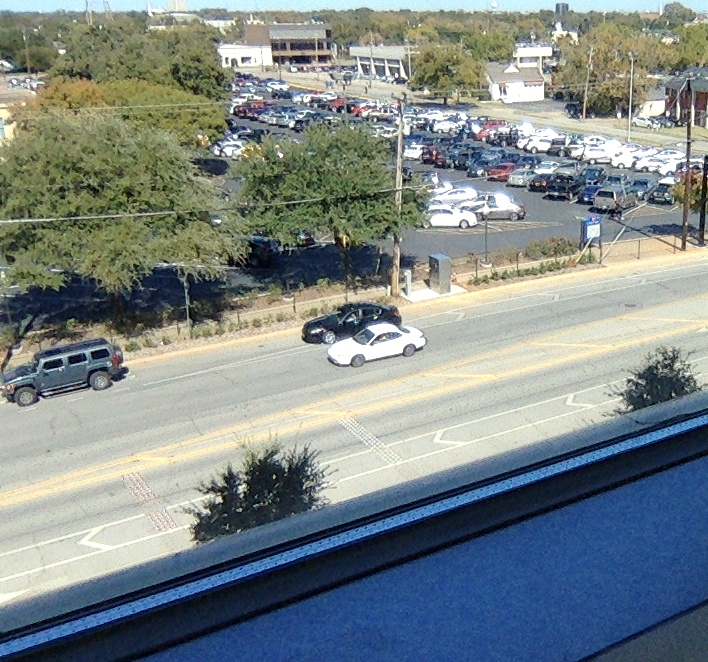car: (300, 300, 408, 362)
